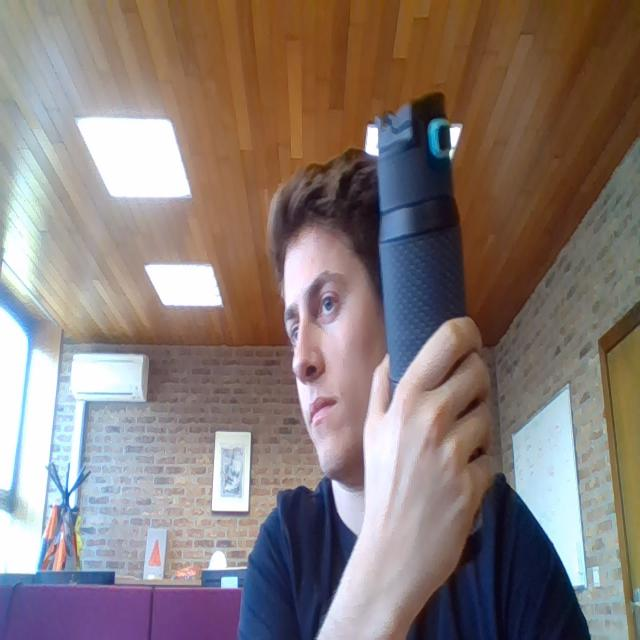bottle: (370, 87, 500, 537)
